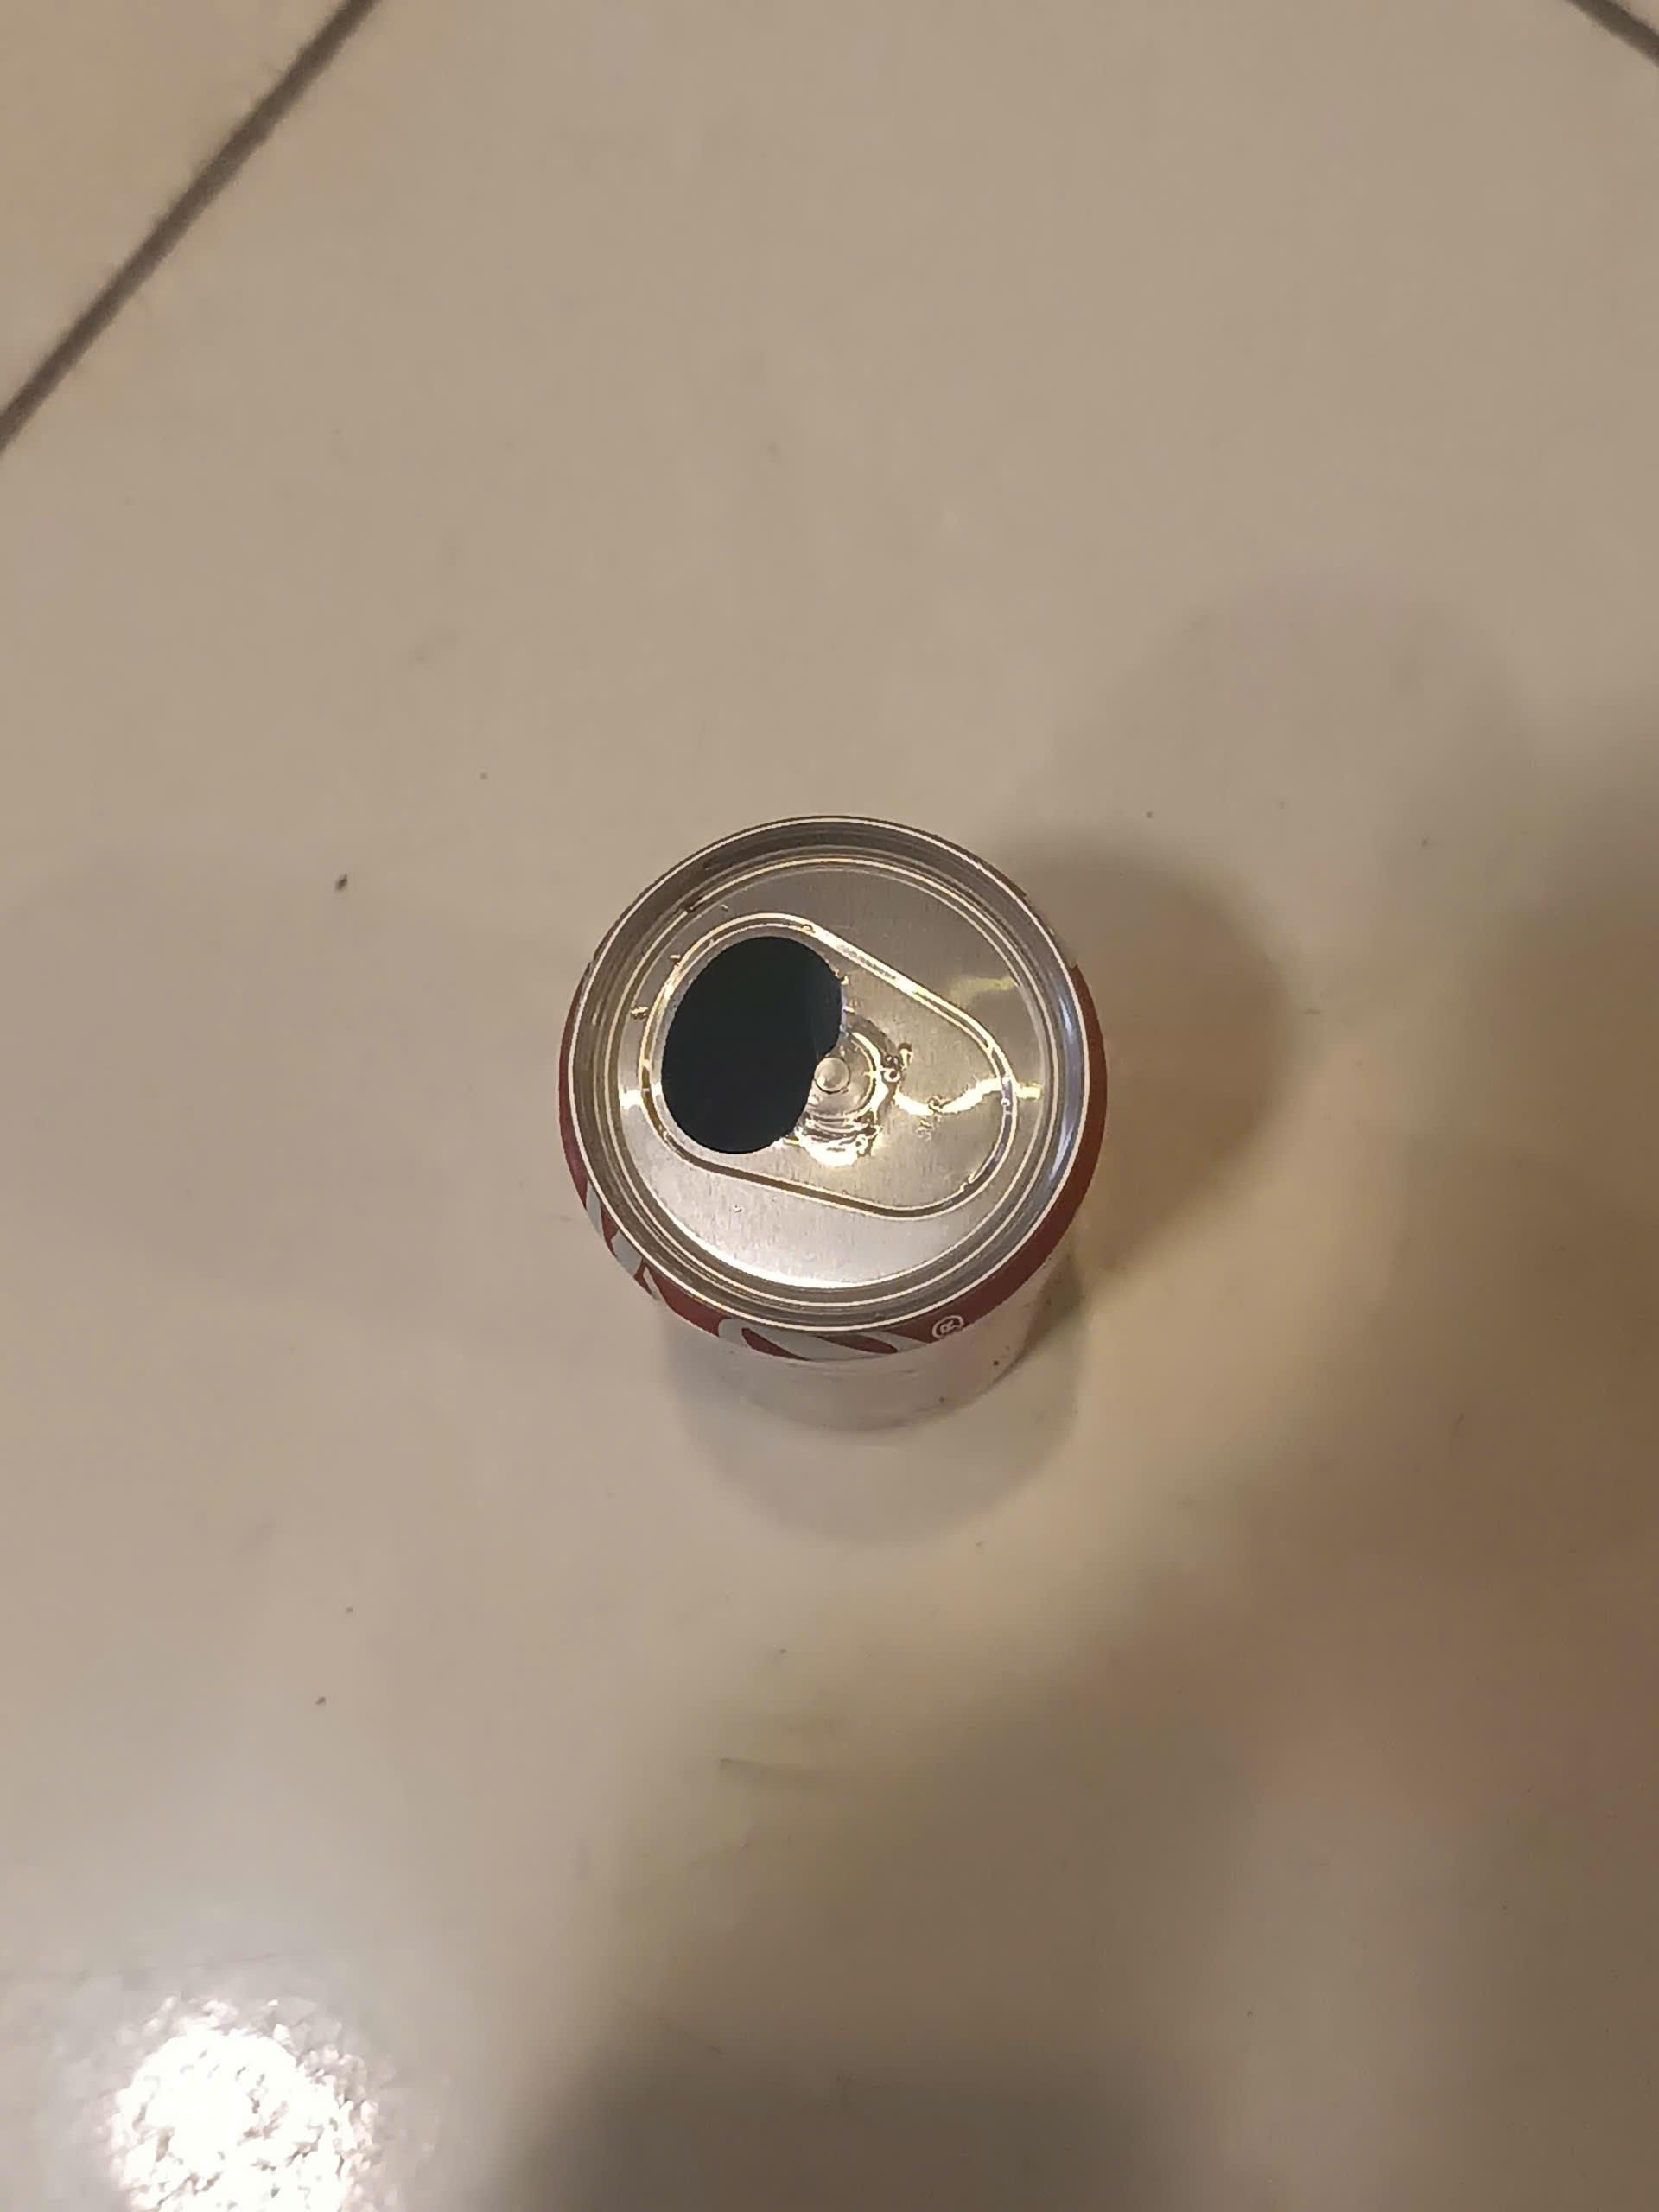Vo co: (552, 799, 1107, 1432)
